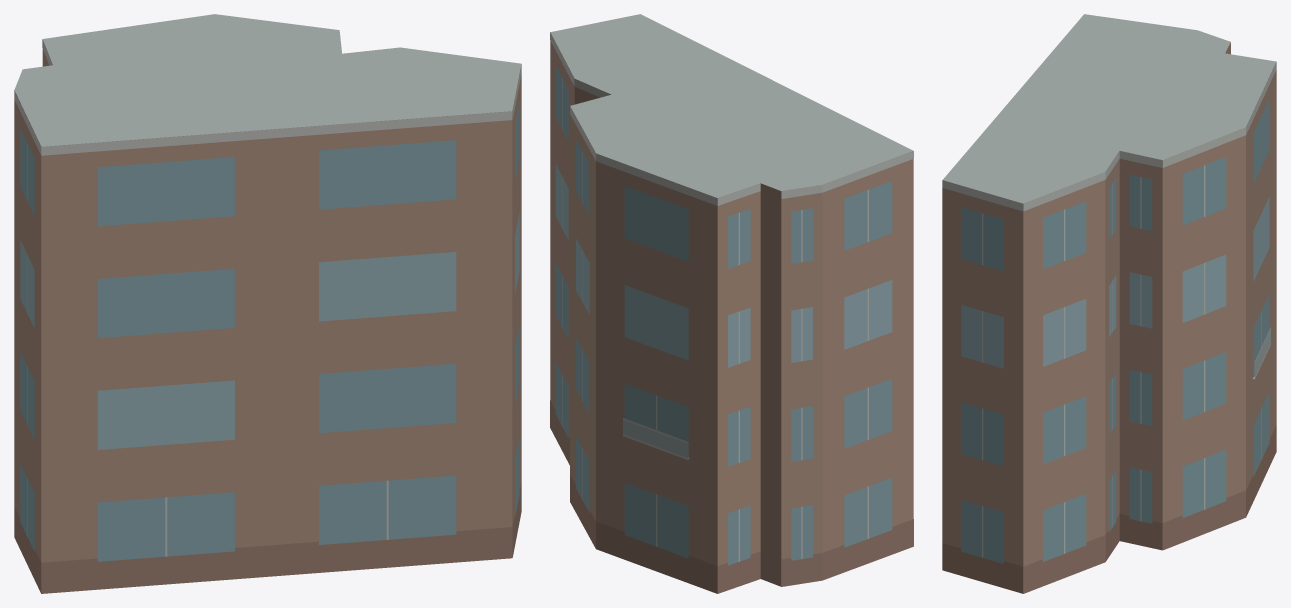
Rendered from survey-upis-33013644.glb.
3 renders of one model, left to right at view 1: azimuth 30°, elevation 25°; view 2: azimuth 150°, elevation 25°; view 3: azimuth 270°, elevation 25°, orthographic. The views are drawn at different scales.
Visible parts, largest first — view 1: survey-upis-33013644.tmp; view 2: survey-upis-33013644.tmp; view 3: survey-upis-33013644.tmp.
Part boxes in pixels (x1,y1,x2,y2): survey-upis-33013644.tmp: (14, 14, 521, 593); survey-upis-33013644.tmp: (550, 14, 913, 593); survey-upis-33013644.tmp: (942, 14, 1276, 593).
Bounding box in the file's own units: 12.73 × 12.2 × 9.48.
